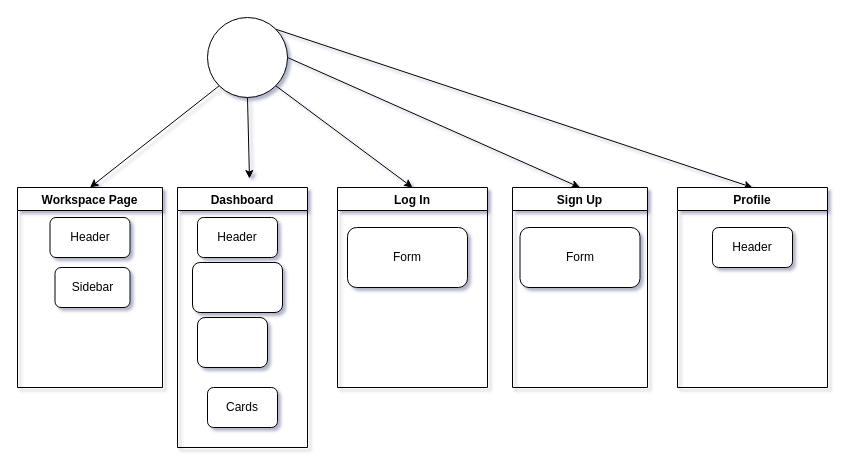
This 851x471 diagram has some shape labels left out. Each missing label, with the centre of its shape:
Board: (237,287)
Column: (232,342)
Router: (247,57)
